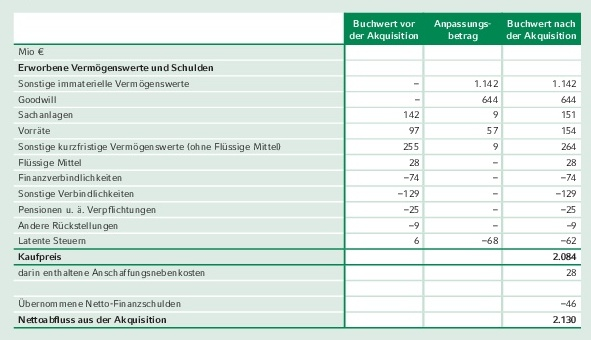table: (0, 0, 591, 340)
